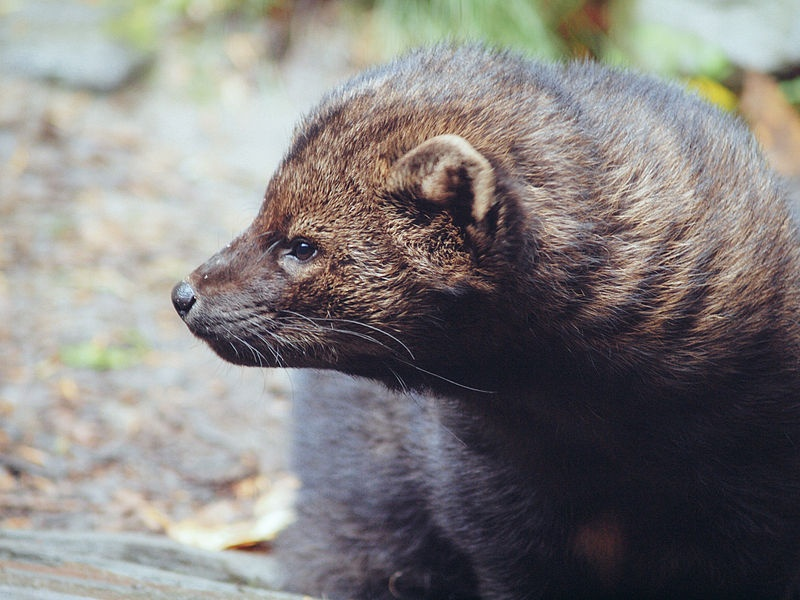minkish: (167, 33, 800, 597)
